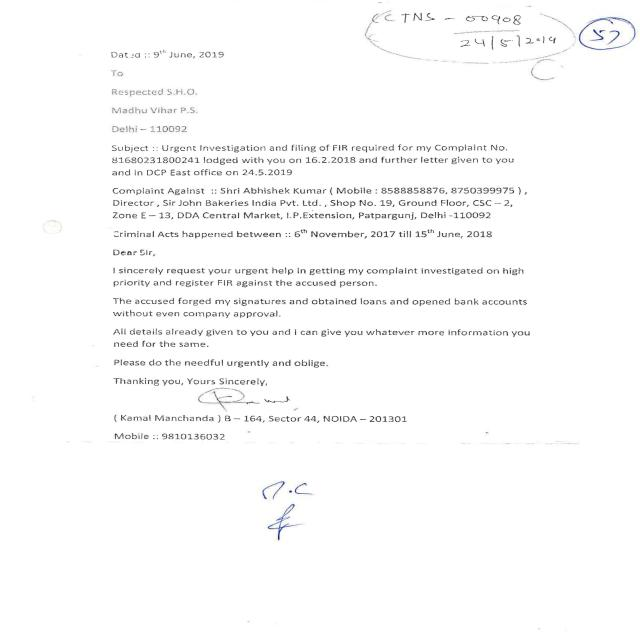page-number: (576, 3, 636, 221)
